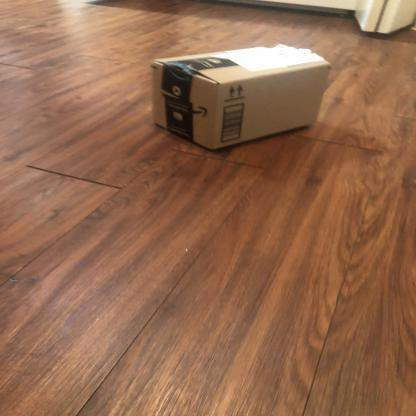package: (146, 42, 334, 155)
